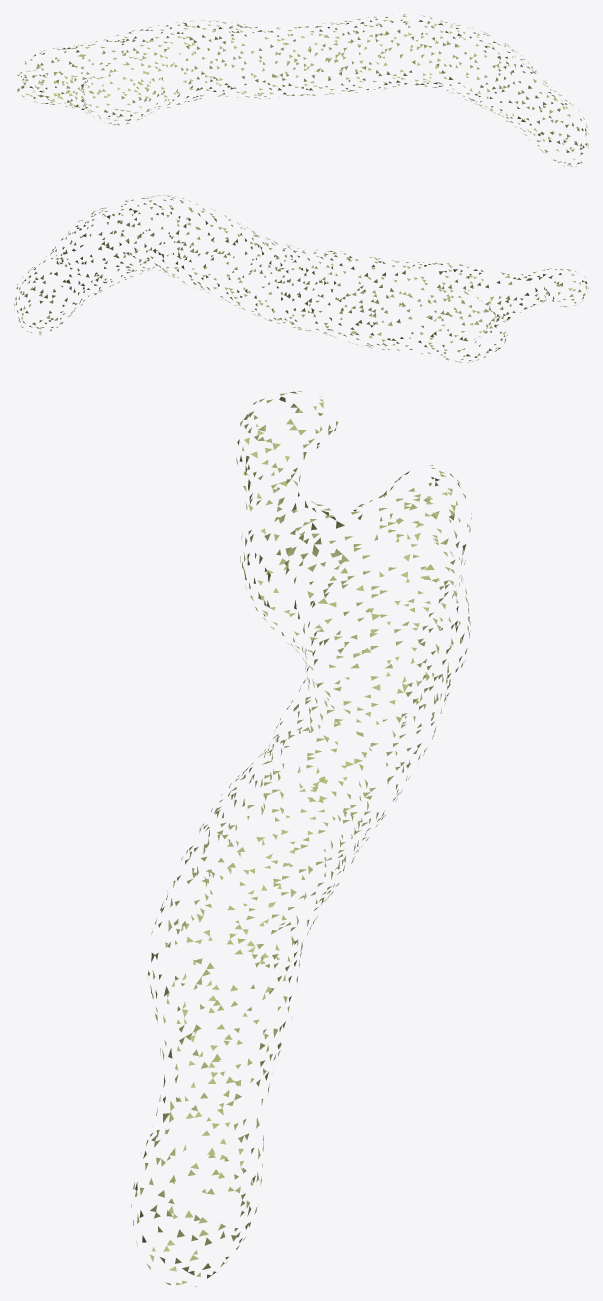
The model's file is morph_010.glb.
The picture shows the model from 3 angles, top to bottom: view 1: azimuth 30°, elevation 25°; view 2: azimuth 150°, elevation 25°; view 3: azimuth 270°, elevation 25°; orthographic projection. The views are drawn at different scales.
Bounding box in the file's own units: 104 × 36.32 × 28.59.
